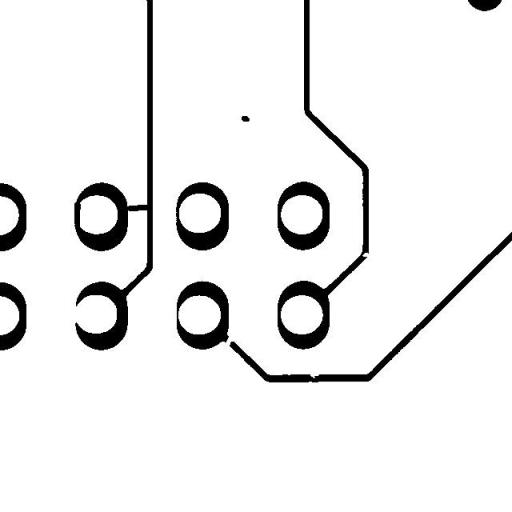copper: (234, 108, 256, 129)
mousebite: (302, 366, 326, 386), (354, 245, 377, 264)
open: (215, 329, 242, 358)
short: (66, 194, 88, 238), (119, 197, 157, 218)
